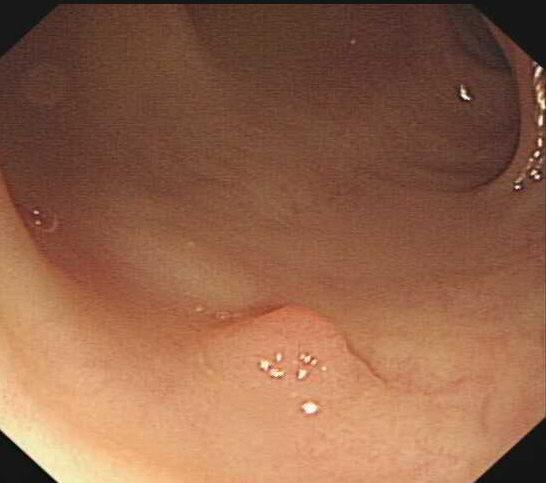adenoma: (215, 301, 386, 391)
